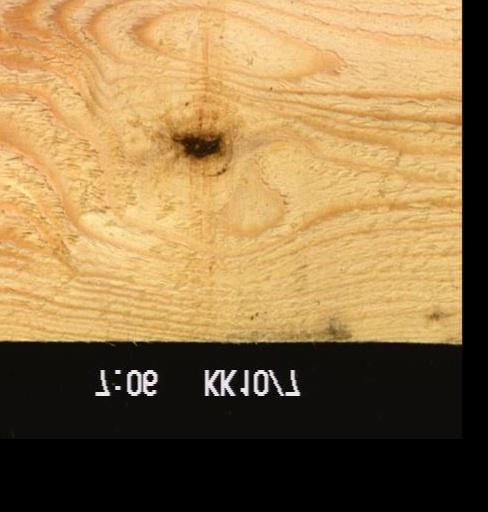small_knot: (424, 308, 447, 323)
